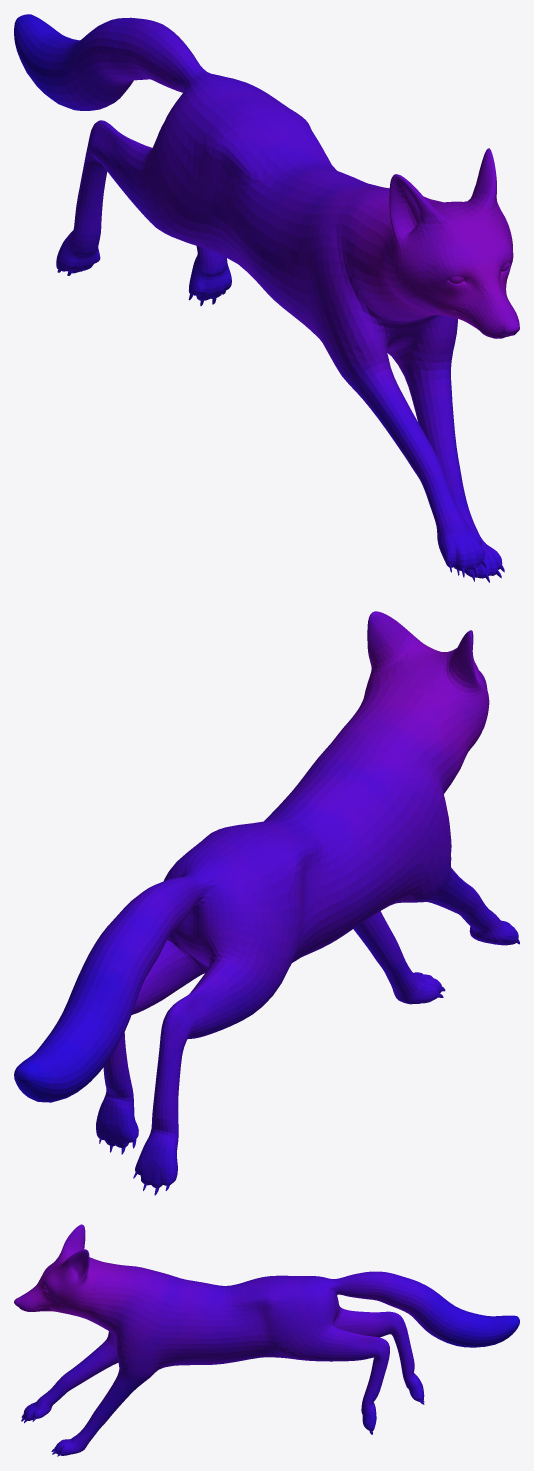
The model's file is pred.glb.
3 renders of one model, top to bottom at view 1: azimuth 30°, elevation 25°; view 2: azimuth 150°, elevation 25°; view 3: azimuth 270°, elevation 25°, orthographic. The views are drawn at different scales.
Size of the model in its own units: 0.0962 by 0.2817 by 0.6112.
